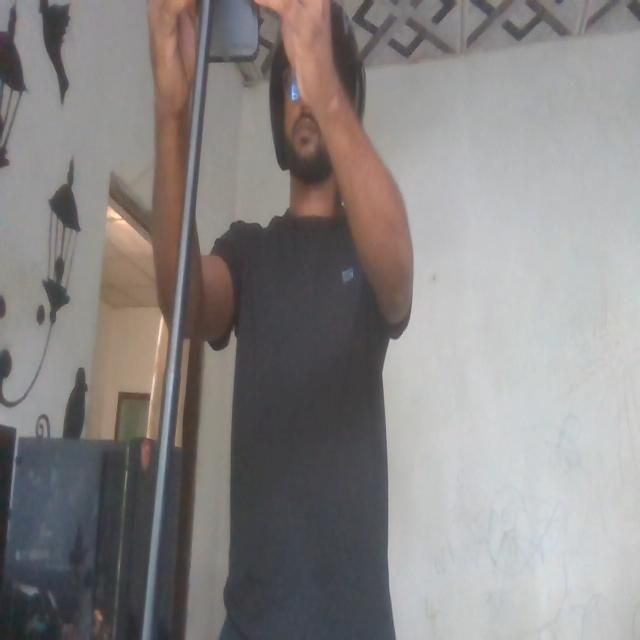Helmet_Wearer: (253, 0, 374, 198)
Person: (223, 0, 419, 640)
